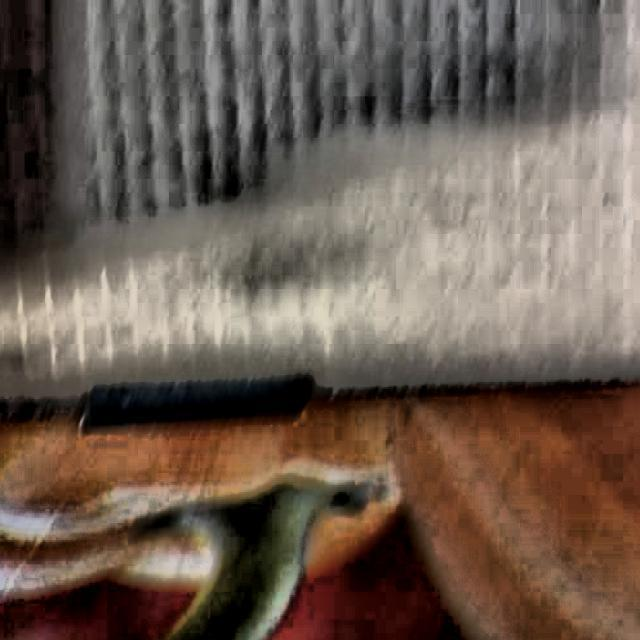cardboard: (0, 0, 640, 423), (0, 380, 640, 640)
